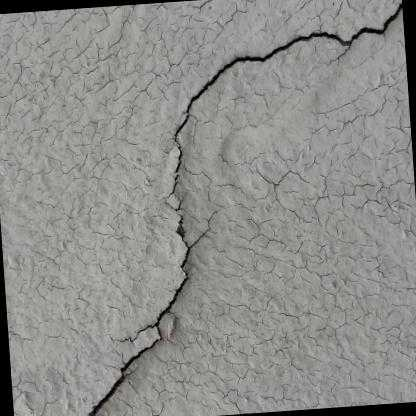crack: (169, 5, 402, 193), (83, 213, 192, 416)
